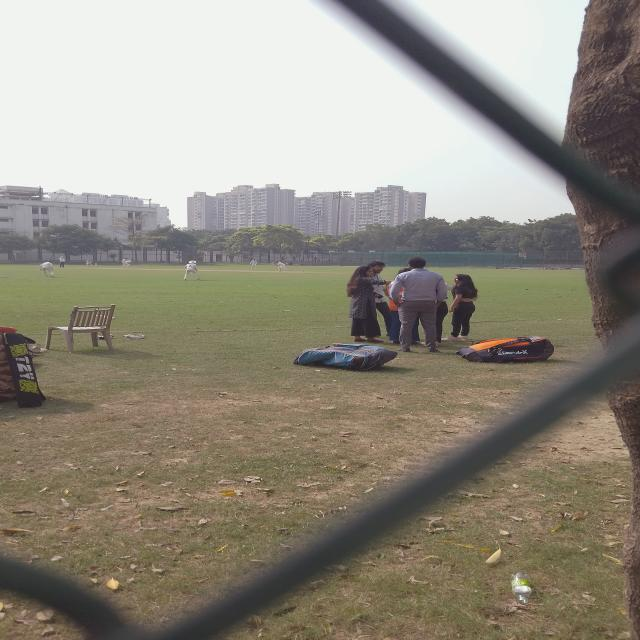unsafe: (396, 257, 444, 353), (346, 265, 387, 344), (447, 272, 479, 343), (182, 260, 205, 281), (38, 260, 61, 278), (273, 260, 291, 274)
